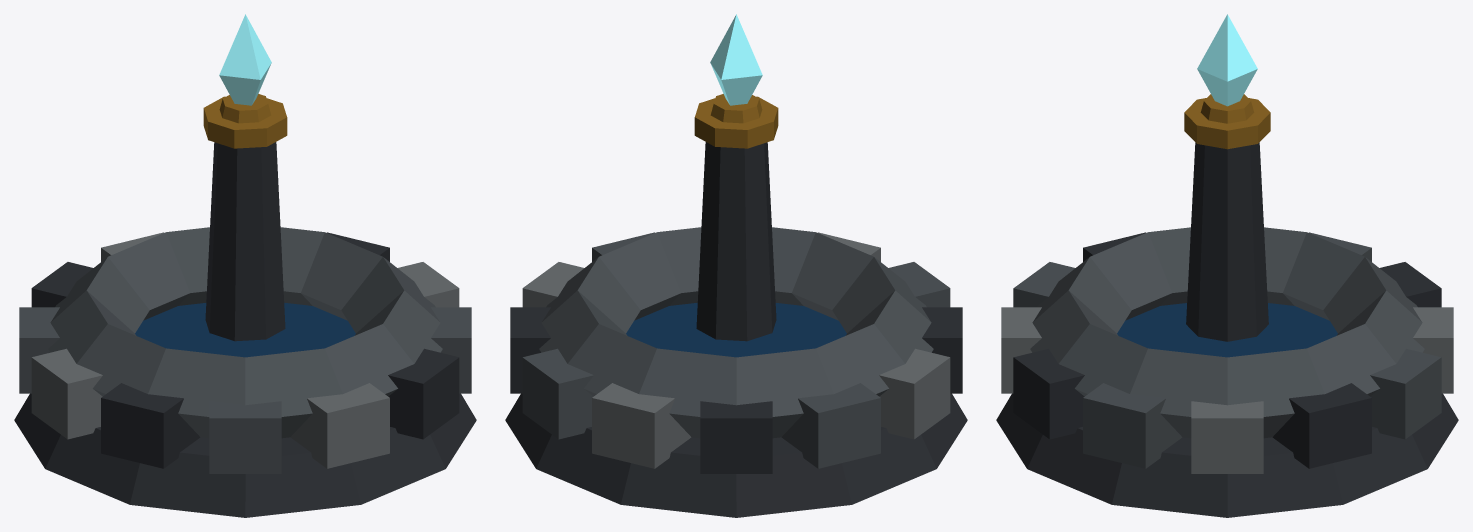
File: eastbrook_civic_well_beacon.glb
3 views of the same model, side by side, from view 1: azimuth 30°, elevation 25°; view 2: azimuth 150°, elevation 25°; view 3: azimuth 270°, elevation 25° (orthographic).
Parts seen in each view (by area): view 1: EastbrookCivicWellBeacon_TownOpaque, EastbrookCivicWellBeacon_TownEmissive; view 2: EastbrookCivicWellBeacon_TownOpaque, EastbrookCivicWellBeacon_TownEmissive; view 3: EastbrookCivicWellBeacon_TownOpaque, EastbrookCivicWellBeacon_TownEmissive.
Part boxes in pixels (box(x1,y1,x2,y2)): EastbrookCivicWellBeacon_TownOpaque: box(14, 94, 476, 517); EastbrookCivicWellBeacon_TownEmissive: box(219, 14, 271, 105); EastbrookCivicWellBeacon_TownOpaque: box(505, 94, 967, 517); EastbrookCivicWellBeacon_TownEmissive: box(710, 14, 762, 105); EastbrookCivicWellBeacon_TownOpaque: box(996, 94, 1458, 517); EastbrookCivicWellBeacon_TownEmissive: box(1197, 14, 1257, 106).
Size of the model in its own units: 3.2 by 3.1 by 3.2.
